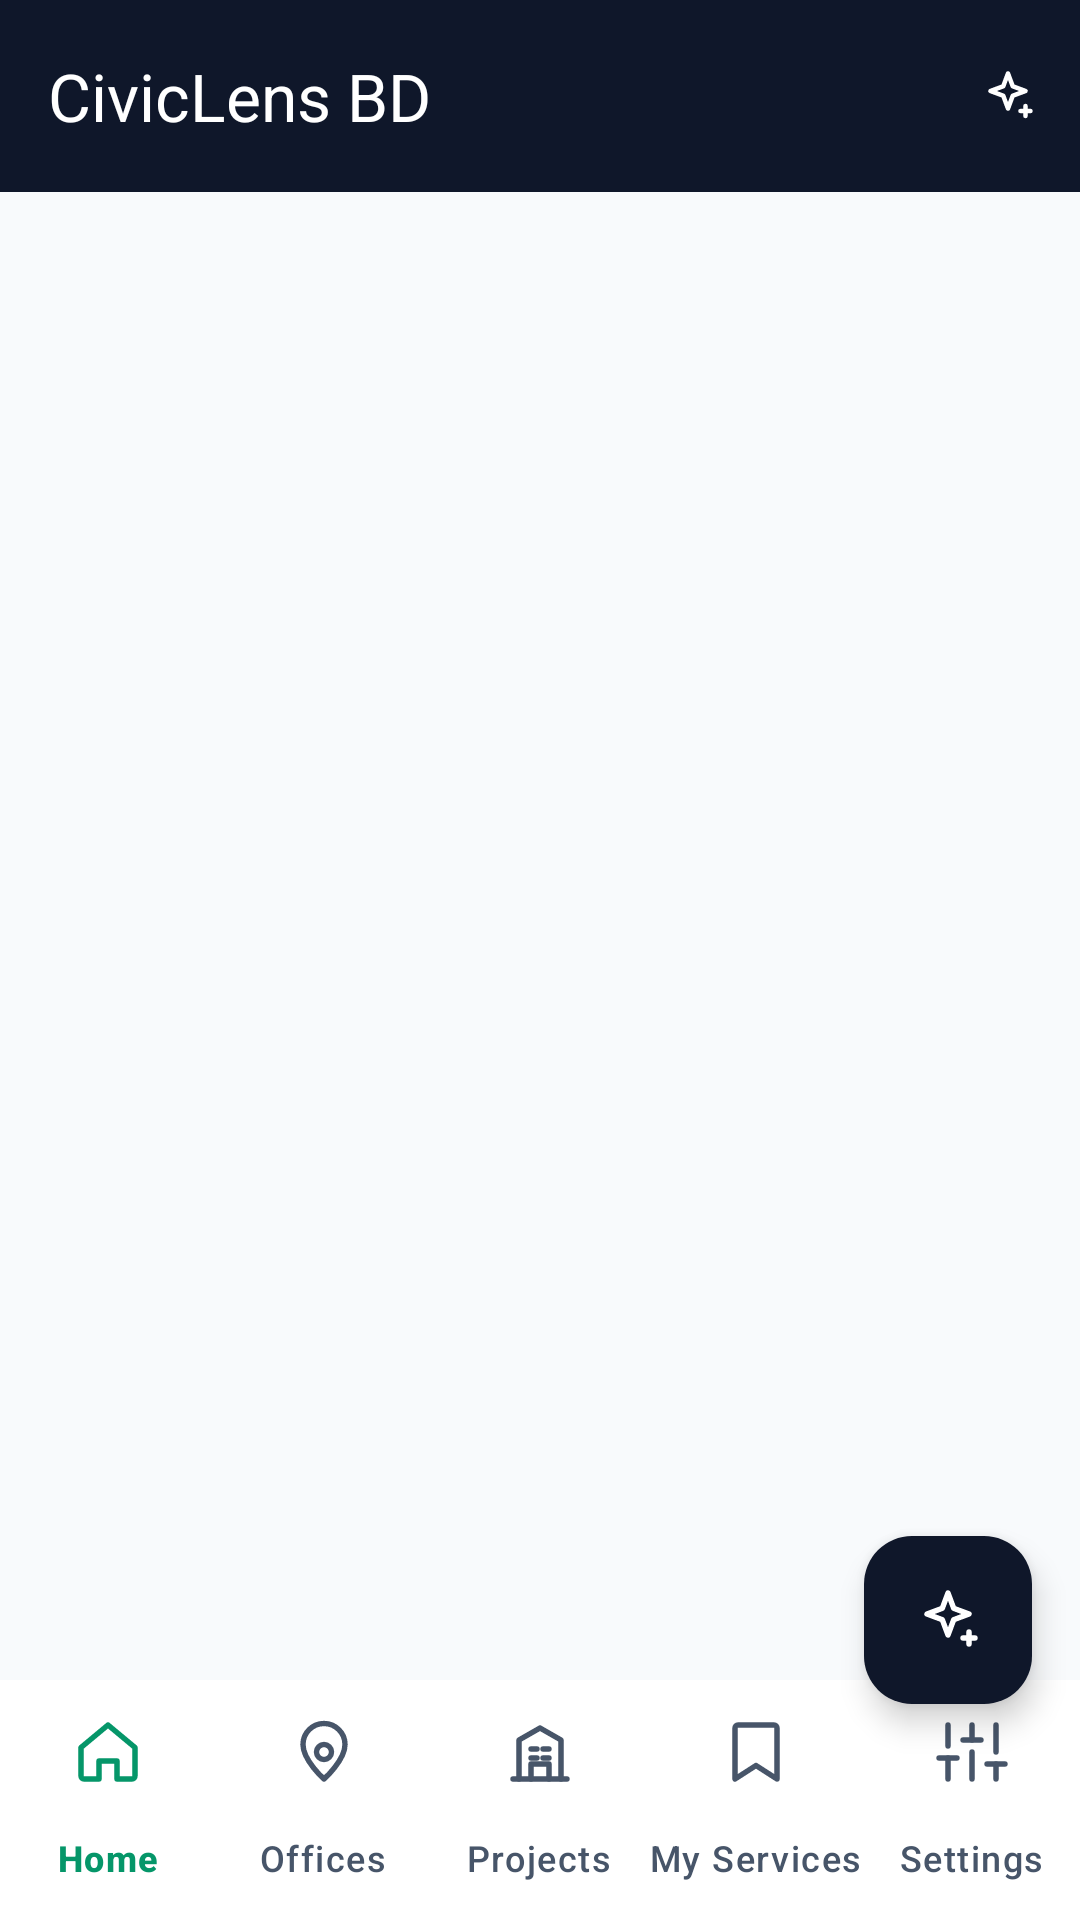

Point at icon controls on the screen. Image size 1080 x 1920, points as (x=x, y=y).
Ask CivicLens: (x=948, y=1620)
